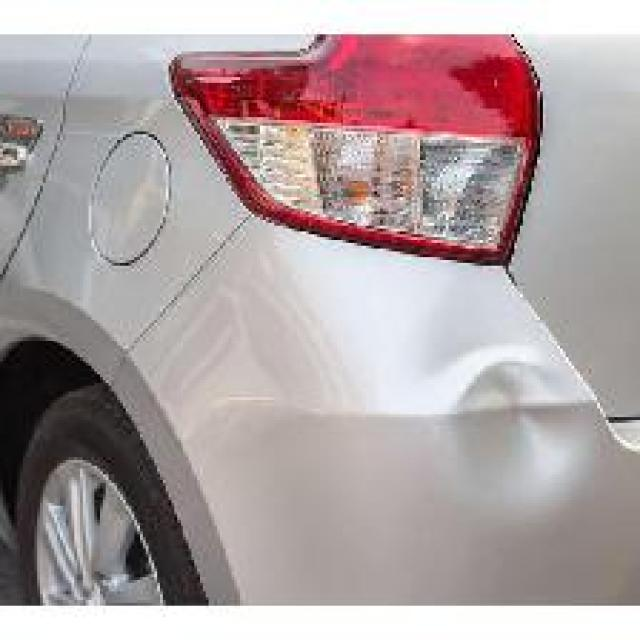bumper_dent_minor: (420, 346, 583, 497)
